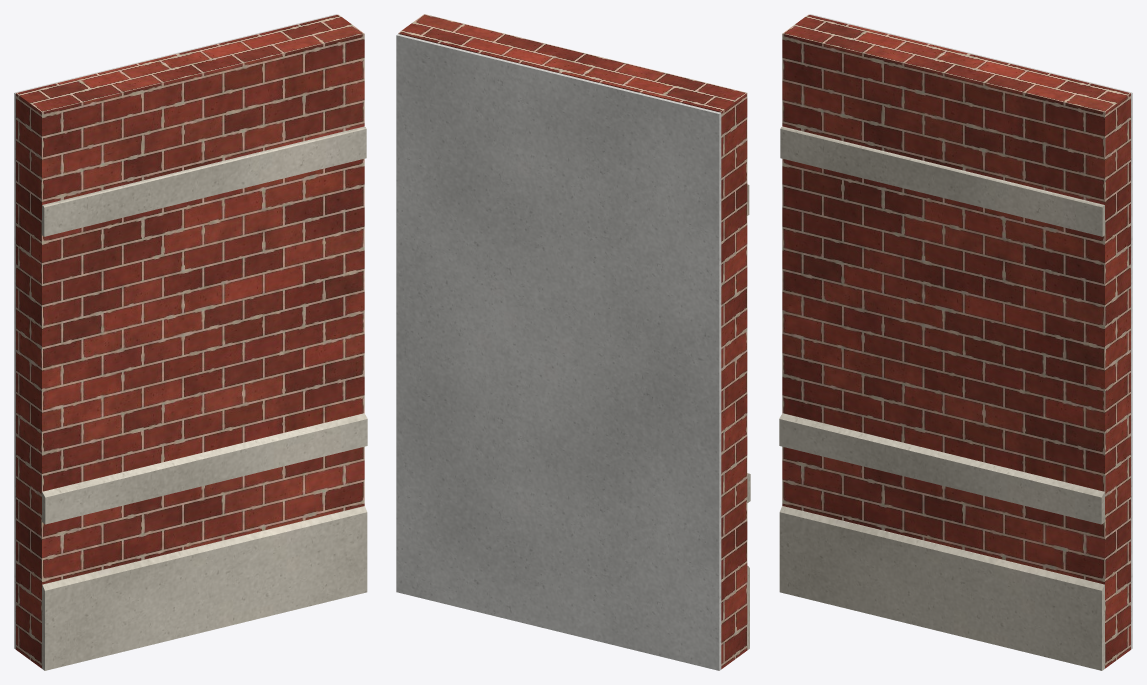
The model's file is w_g_plain.glb.
3 views of the same model, side by side, from view 1: azimuth 30°, elevation 25°; view 2: azimuth 150°, elevation 25°; view 3: azimuth 330°, elevation 25° (orthographic).
Parts seen in each view (by area): view 1: w_g_plain_brick, w_g_plain_precast, w_g_plain_plaster; view 2: w_g_plain_plaster, w_g_plain_brick; view 3: w_g_plain_brick, w_g_plain_precast, w_g_plain_plaster.
Boxes of the visible parts, x1=… form: w_g_plain_brick: x1=16, y1=14, x2=364, y2=668; w_g_plain_precast: x1=42, y1=126, x2=367, y2=670; w_g_plain_plaster: x1=14, y1=14, x2=337, y2=649; w_g_plain_plaster: x1=396, y1=34, x2=721, y2=670; w_g_plain_brick: x1=398, y1=14, x2=747, y2=669; w_g_plain_brick: x1=782, y1=14, x2=1130, y2=668; w_g_plain_precast: x1=779, y1=126, x2=1104, y2=670; w_g_plain_plaster: x1=809, y1=14, x2=1132, y2=649.
Bounding box in the file's own units: 2 × 3.3 × 0.335.
3 materials, 3 textured.
